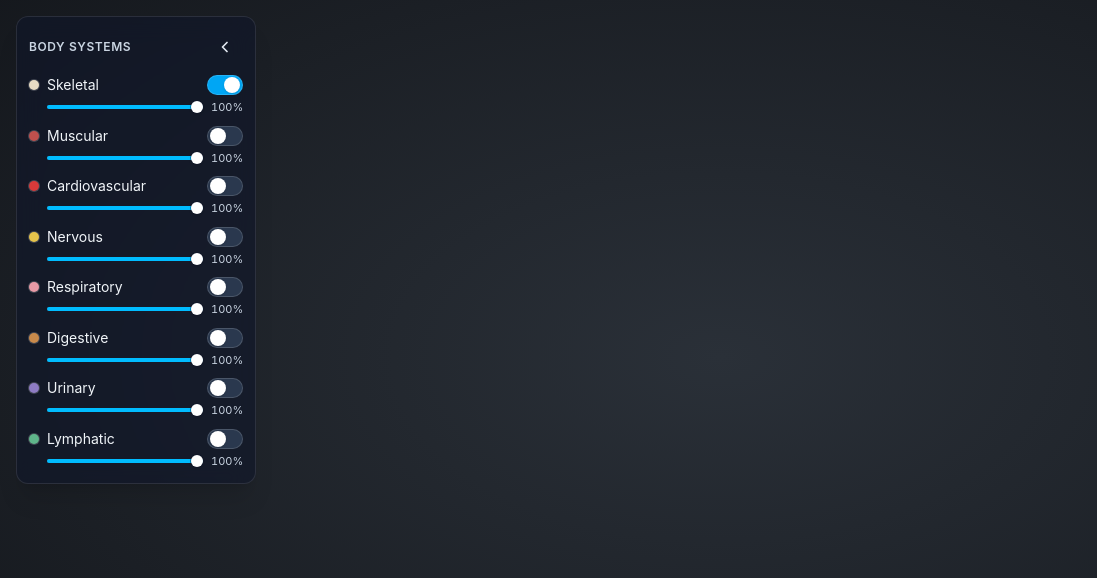
Test: SystemsPanel › collapses and expands
The width and height of the screenshot is (1097, 578).
Click the button named "Collapse panel".
click(225, 47)  # box top-left (207, 29), bottom-right (243, 65)
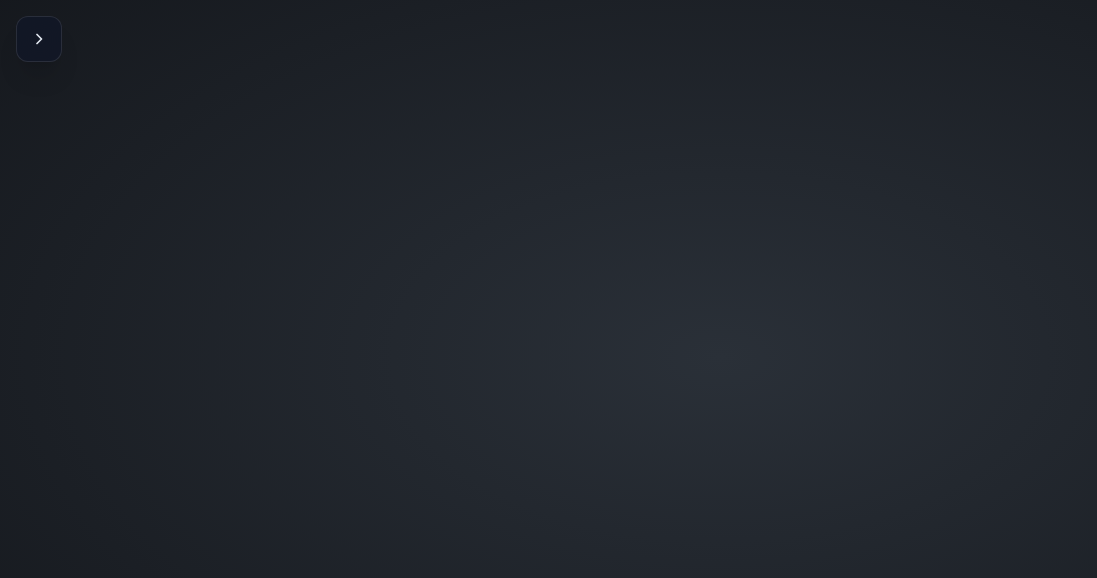
Result: no switches are shown
Click the button named "Expand panel".
click(39, 39)  # box top-left (21, 21), bottom-right (57, 57)
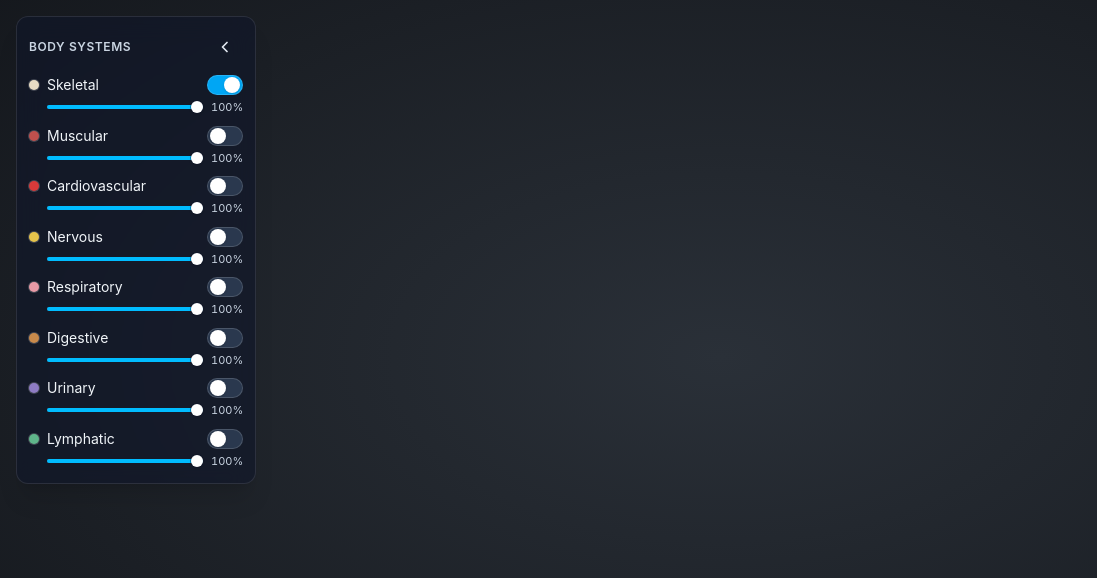
Result: the number of switches is 8
